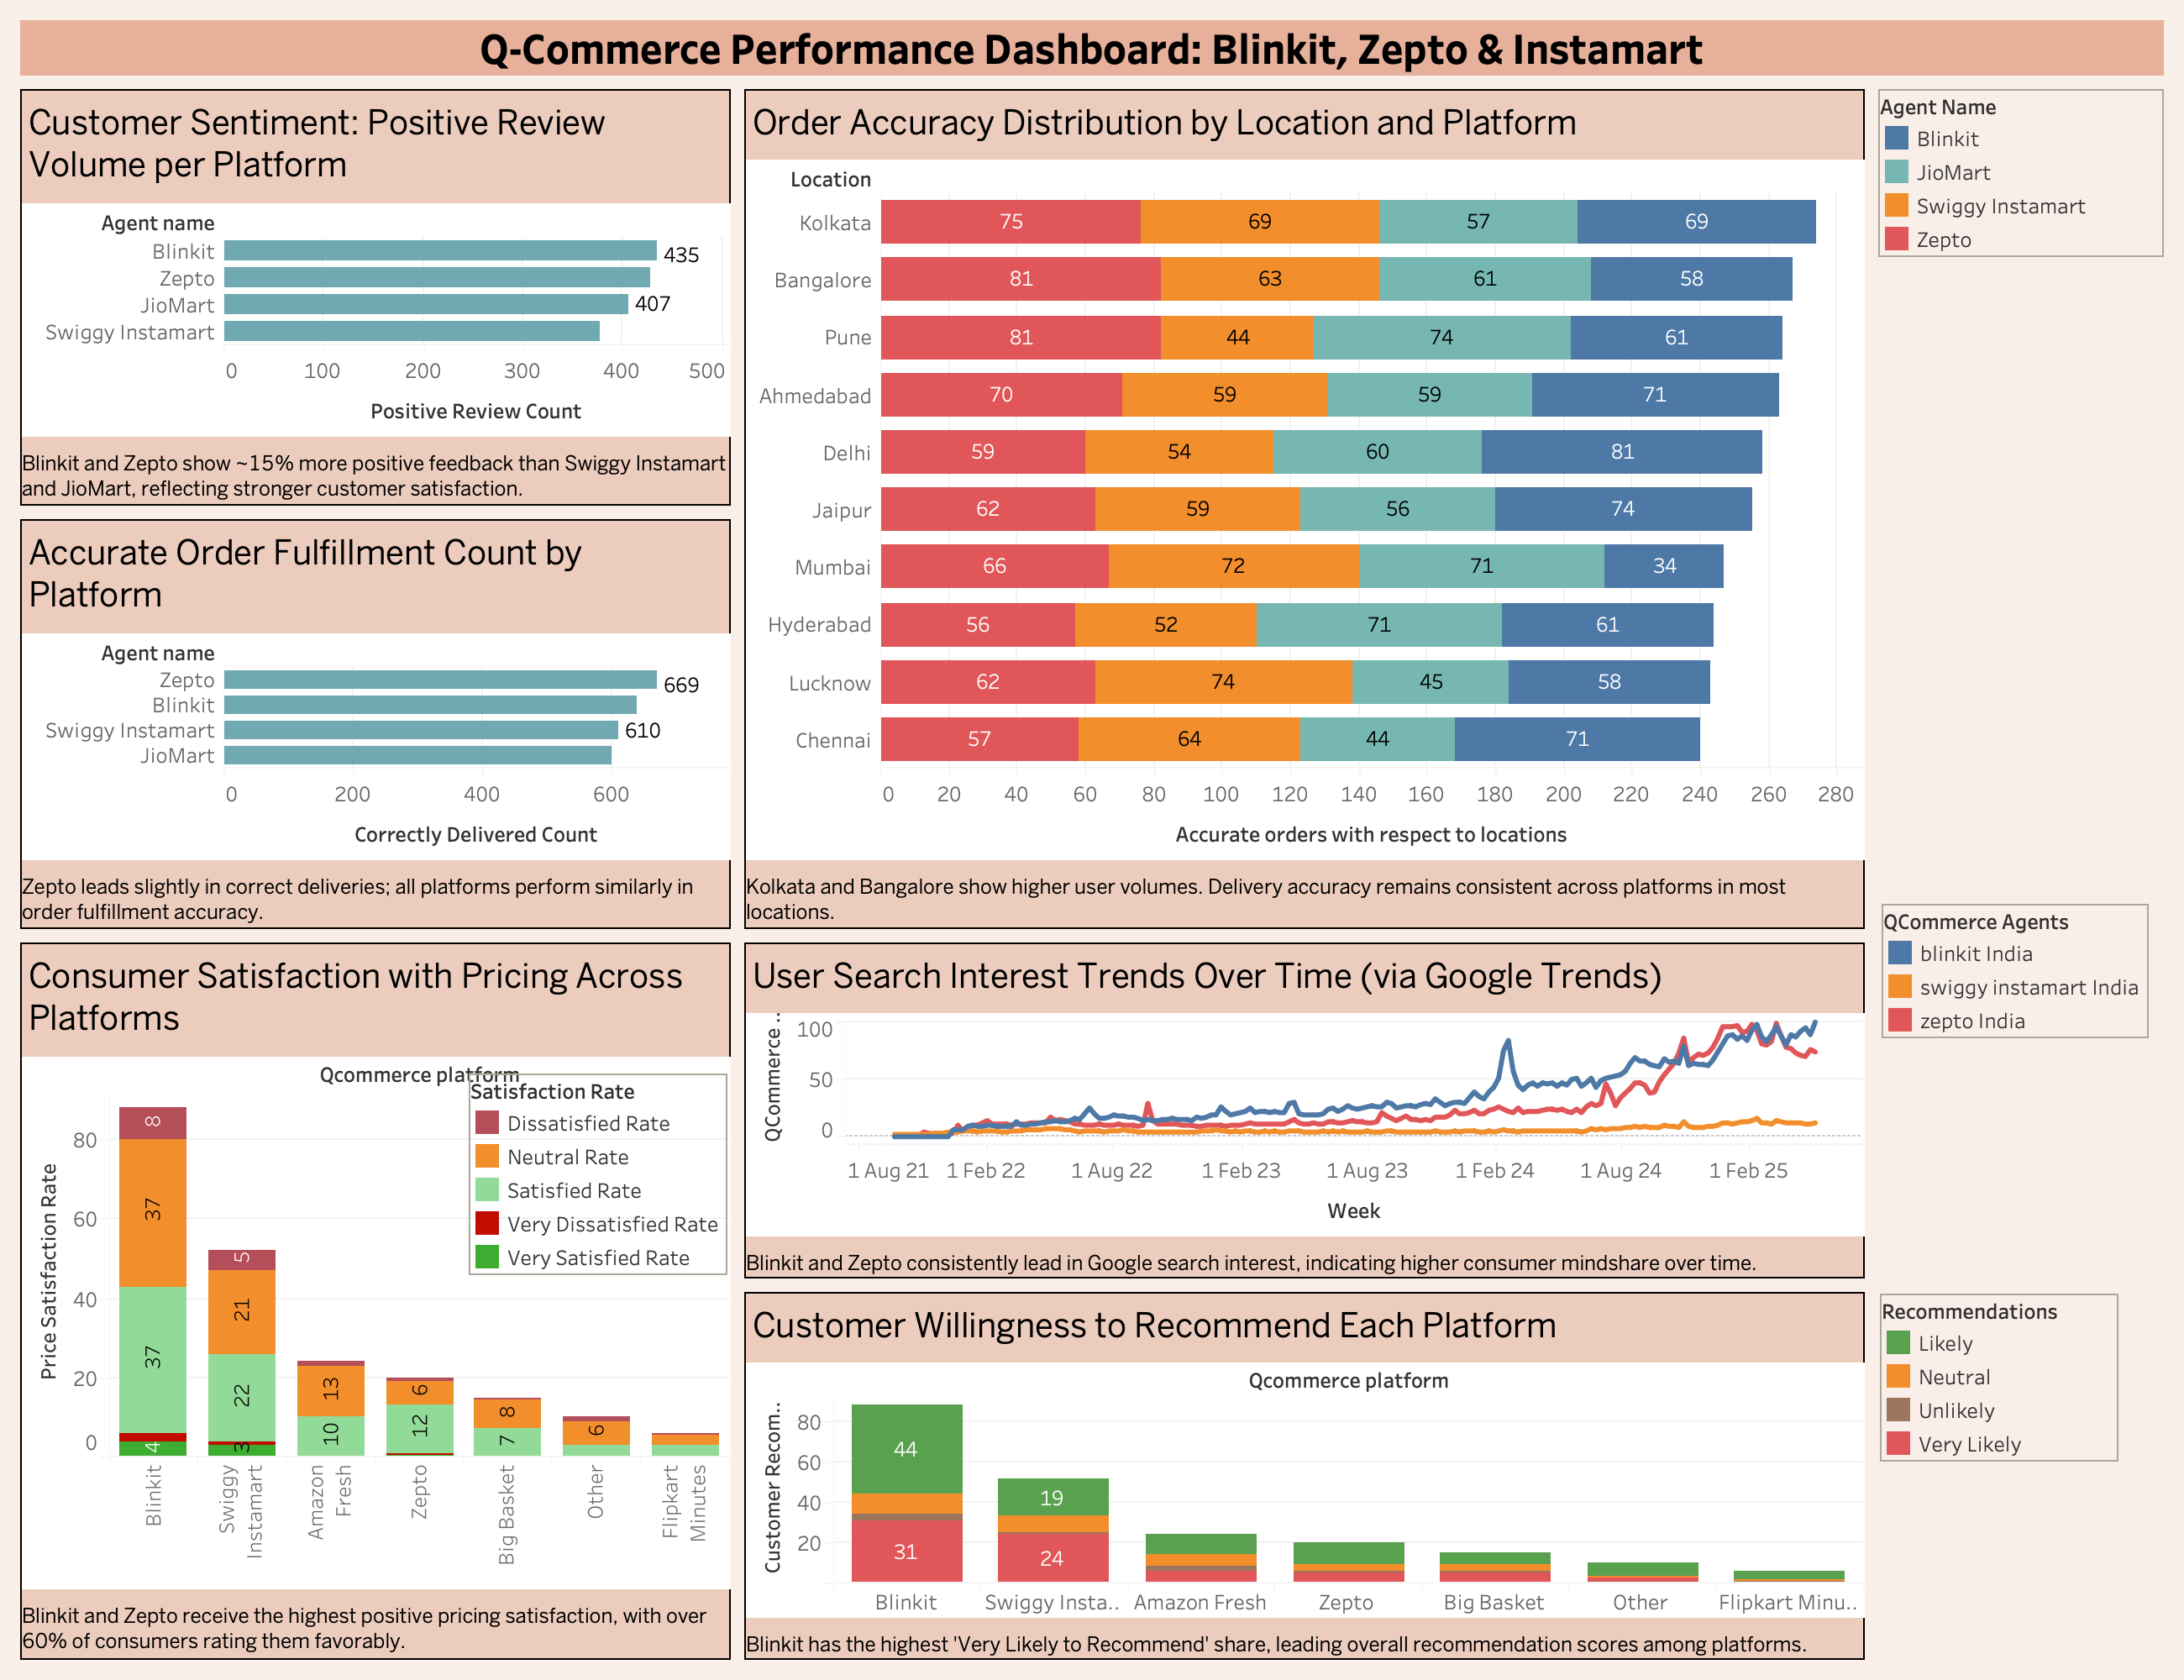

What the dashboard file says about the page in this screenshot:
{"tool":"tableau","page":{"name":"QCommerce-Dashboard","canvas":[1300,1000],"ordinal":0},"visuals":[{"type":"title","box":[8,8,1284,41]},{"type":"blank","box":[15.2,33.3,1074.7,68.9]},{"type":"worksheet","title":"Positive reviews","mark":"Automatic","rows":["Agent_name"],"box":[8,49,430.9,256.2]},{"type":"worksheet","title":"Location wise","mark":"Automatic","rows":["Location"],"box":[438.9,49,675.1,508]},{"type":"legend","title":"Location wise","param":"[federated.06jnahu0i011c81250qrr0xlf9jw].[none:Agent_name:nk]","box":[1114,49,178,108]},{"type":"worksheet","title":"Accurate orders","mark":"Automatic","rows":["Agent_name"],"box":[8,305.2,430.9,251.7]},{"type":"legend","title":"Trends data","param":"[federated.0c8t6gr012y8h31bwzj0v0laearm].[:Measure Names]","box":[1120,537.8,159,88.9]},{"type":"worksheet","title":"Price Rating","mark":"Automatic","cols":["Qcommerce_platform"],"box":[8,556.9,430.9,435.2]},{"type":"worksheet","title":"Trends data","mark":"Automatic","cols":["Week"],"box":[438.9,557,675.1,208.1]},{"type":"legend","title":"Price Rating","param":"[federated.0pqozqm0gbwgi01bo9bam167pivj].[:Measure Names]","box":[279,638.9,154,133.3]},{"type":"worksheet","title":"Recommendations","mark":"Automatic","cols":["Qcommerce_platform"],"box":[438.9,765.1,675.1,226.9]},{"type":"legend","title":"Recommendations","param":"[federated.10y6u7o12trppi14nk02o1rizl4y].[:Measure Names]","box":[1119,770,142,111.1]}]}

Visuals, with their boxes in screenshot pixels (x1, y1, x2, y2), scaled from the page's 1300x1000 canvas onto the 2184x1680 screenshot:
title: bbox=(13, 13, 2171, 82)
blank: bbox=(25, 56, 1831, 171)
"Positive reviews" worksheet: bbox=(13, 82, 738, 512)
"Location wise" worksheet: bbox=(738, 82, 1872, 936)
"Location wise" legend: bbox=(1872, 82, 2171, 264)
"Accurate orders" worksheet: bbox=(13, 512, 738, 936)
"Trends data" legend: bbox=(1882, 904, 2149, 1053)
"Price Rating" worksheet: bbox=(13, 936, 738, 1667)
"Trends data" worksheet: bbox=(738, 936, 1872, 1285)
"Price Rating" legend: bbox=(469, 1074, 727, 1297)
"Recommendations" worksheet: bbox=(738, 1285, 1872, 1667)
"Recommendations" legend: bbox=(1880, 1294, 2118, 1480)
